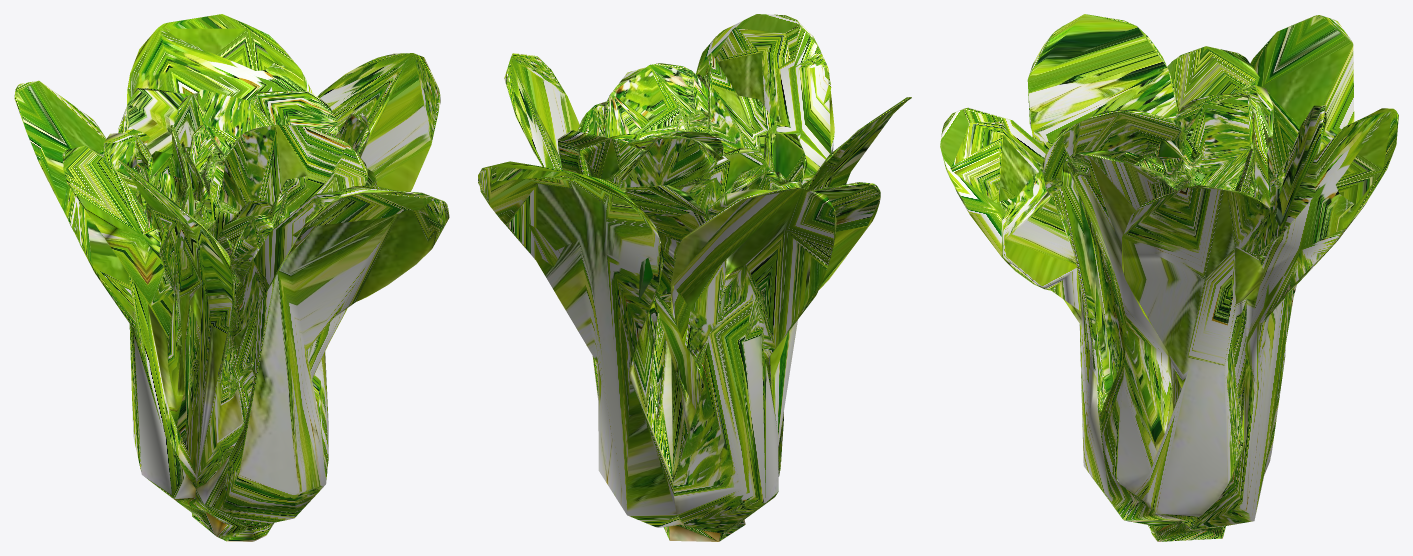
The model's file is noodle-veg.glb.
3 views of the same model, side by side, from view 1: azimuth 30°, elevation 25°; view 2: azimuth 150°, elevation 25°; view 3: azimuth 270°, elevation 25° (orthographic). The views are drawn at different scales.
Parts seen in each view (by area): view 1: mesh; view 2: mesh; view 3: mesh.
Part boxes in pixels (box(x1,y1,x2,y2)): mesh: box(14, 14, 449, 541); mesh: box(478, 14, 911, 541); mesh: box(940, 14, 1398, 541).
Size of the model in its own units: 1.69 by 1.96 by 1.84.
Materials: 1 (1 with a texture image).
